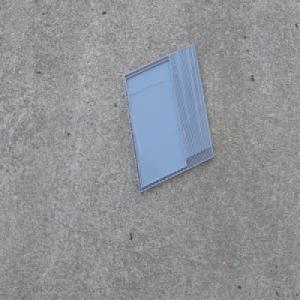PlasticPart: (121, 42, 214, 195)
